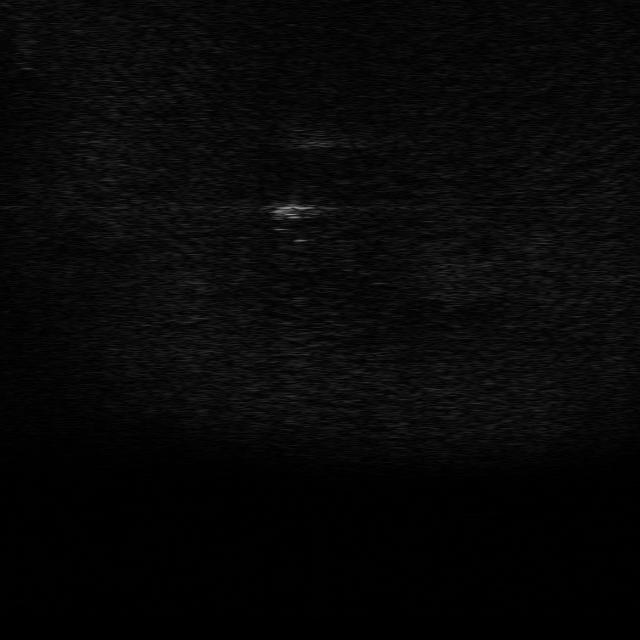plane: (265, 198, 331, 244)
